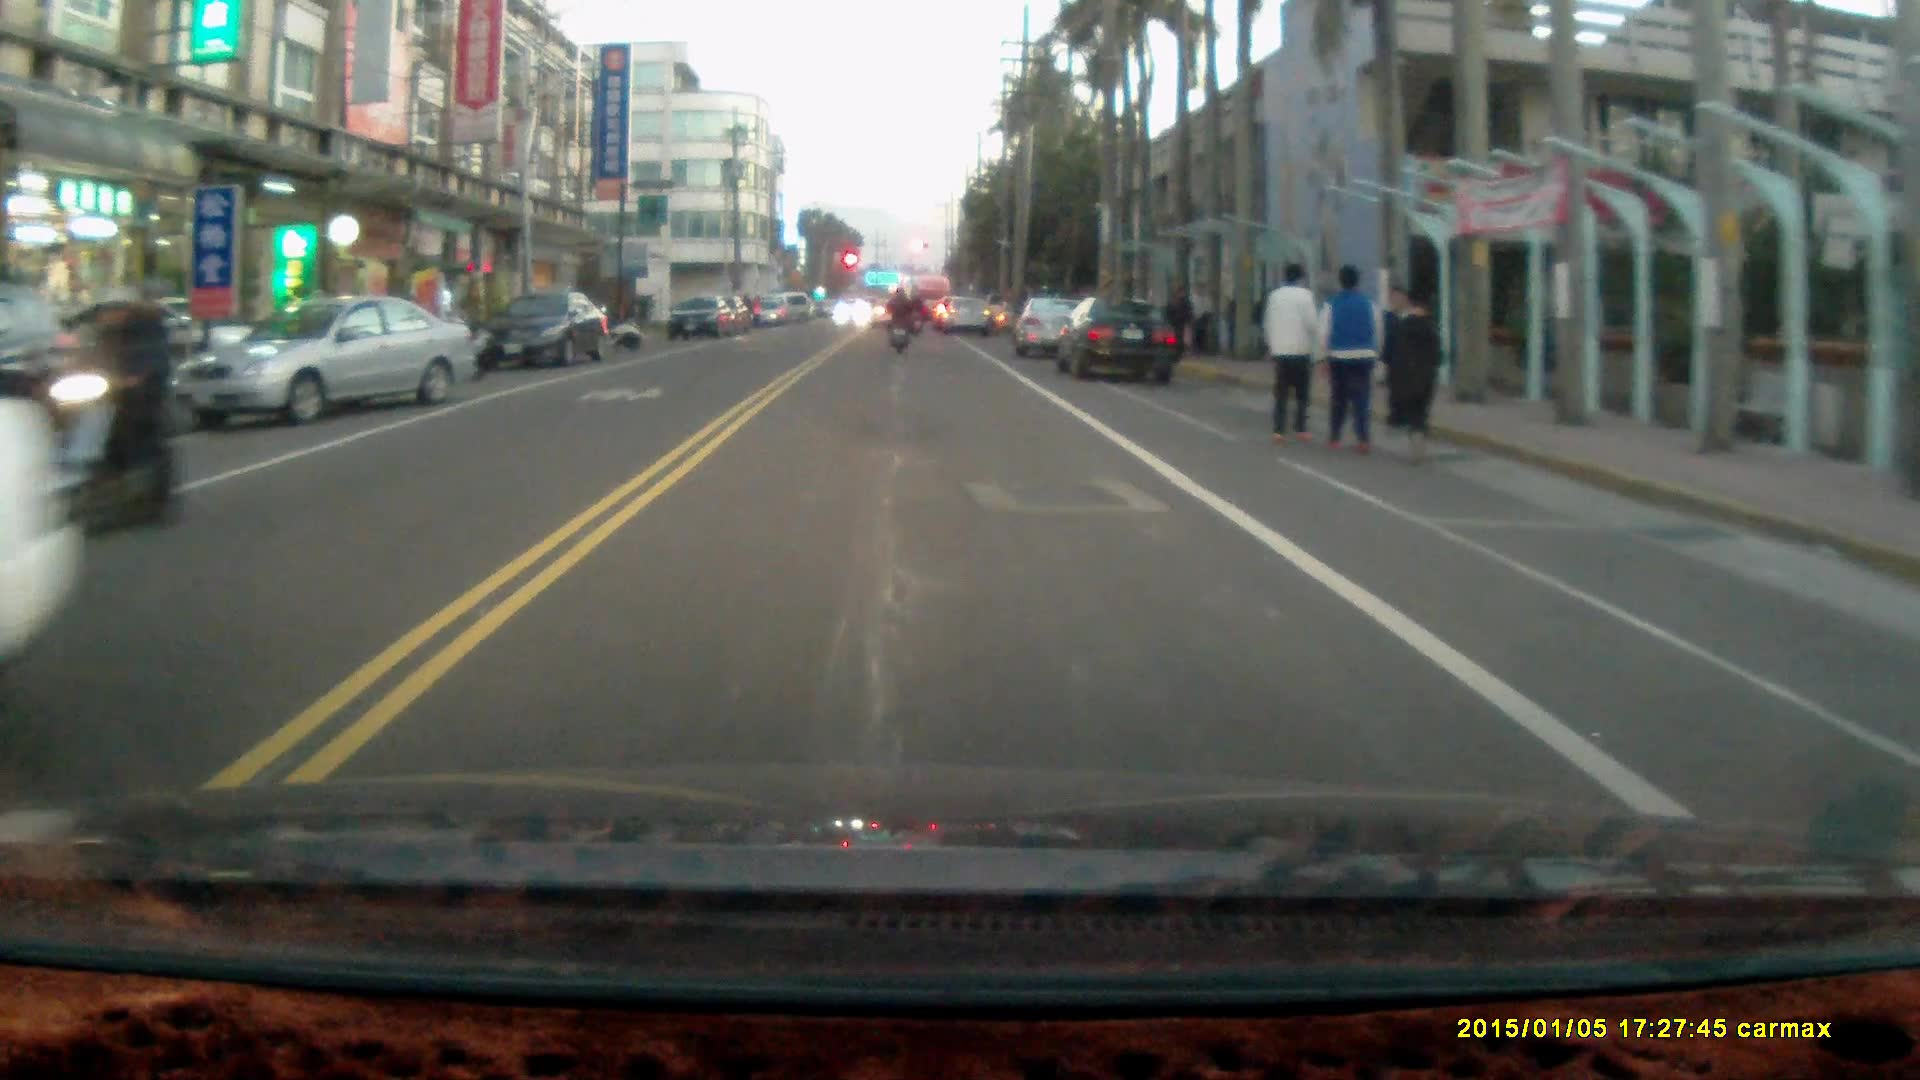pedestrian: (1310, 260, 1387, 458), (1261, 259, 1322, 445), (1389, 283, 1448, 460), (1162, 277, 1198, 359), (1185, 278, 1215, 361)
rider: (32, 278, 187, 549), (882, 283, 913, 354)
vehicle: (181, 292, 482, 422), (1056, 293, 1182, 381), (487, 287, 611, 367), (1017, 296, 1087, 359), (666, 297, 740, 344)
